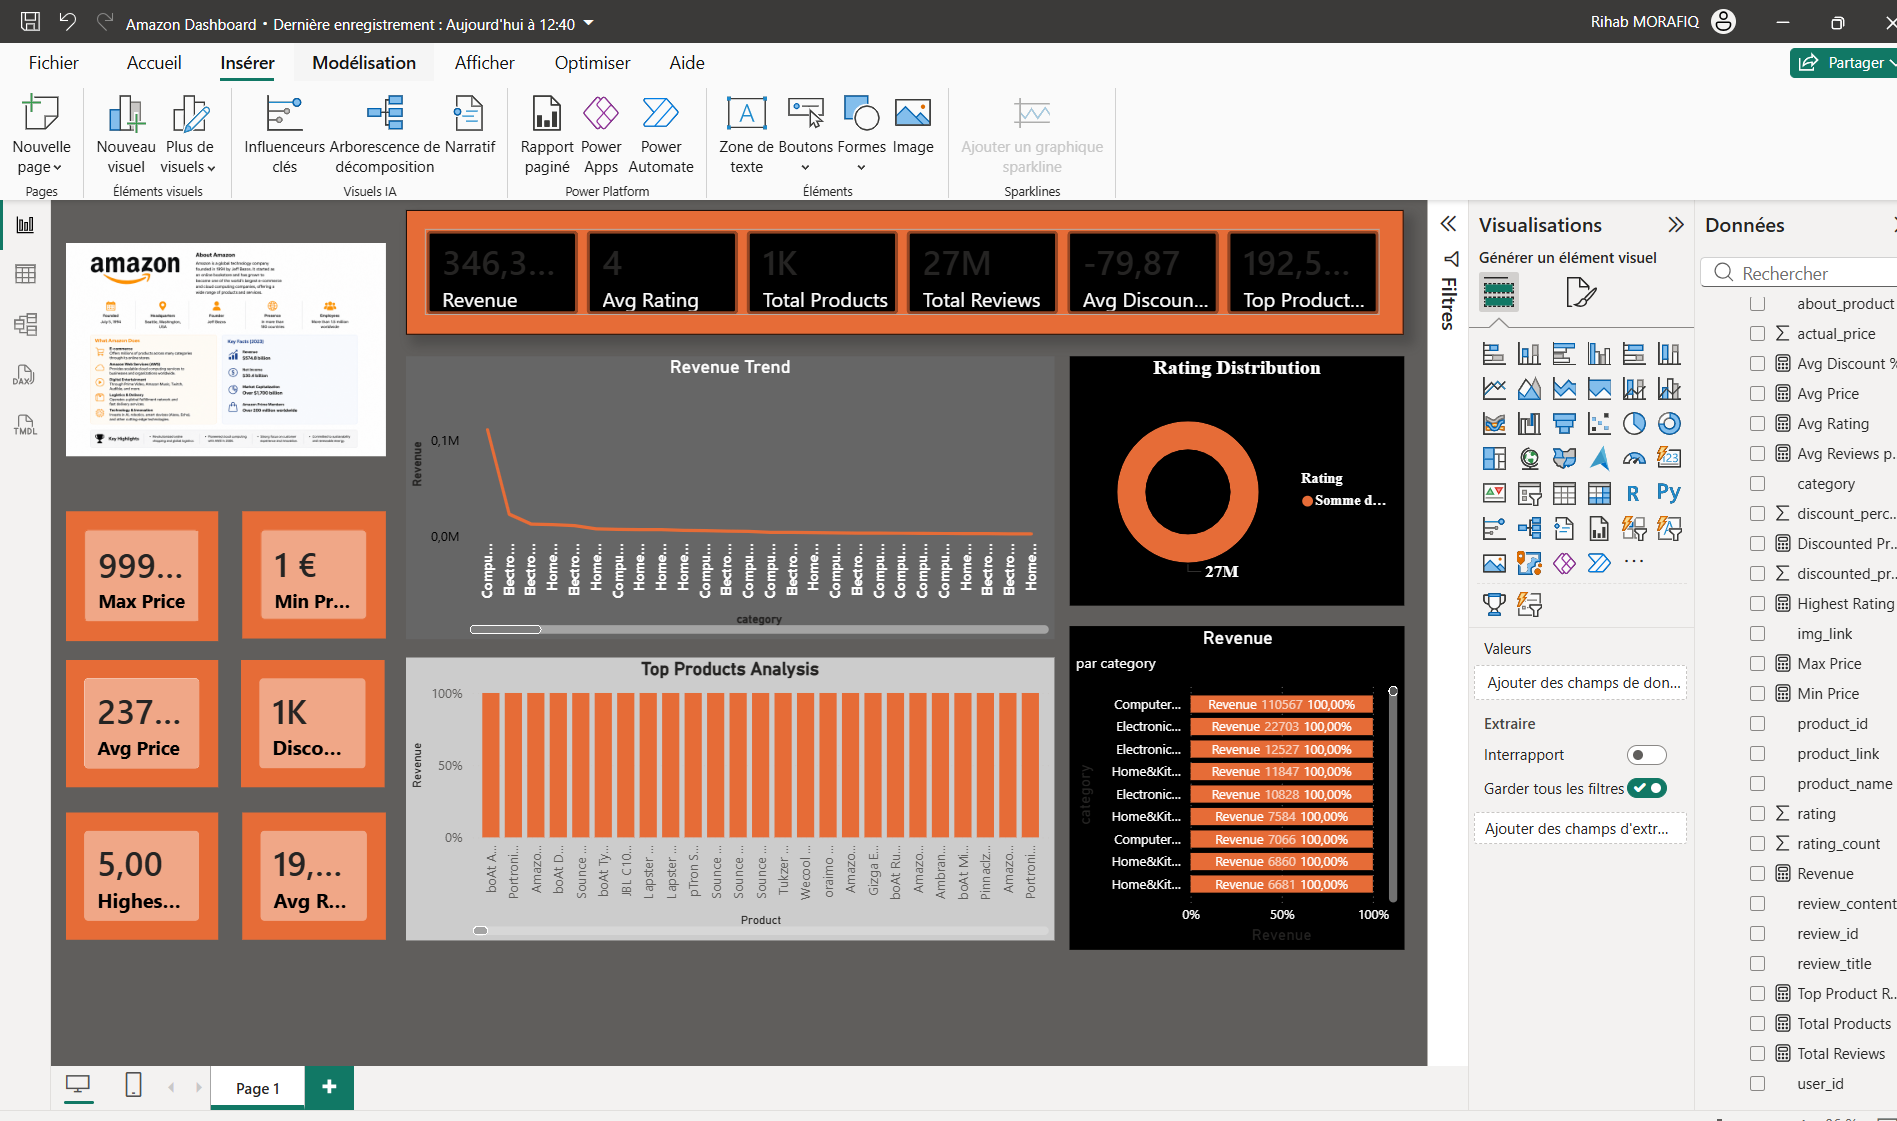

The dashboard page shown, as its layout file describes it:
{"tool":"powerbi","page":{"name":"Page 1","canvas":[1280,720],"ordinal":0},"visuals":[{"type":"cardVisual","fields":{"Data":["amazon.Revenue","amazon.Avg Rating","amazon.Total Products","amazon.Total Reviews","amazon.Avg Discount %","amazon.Top Product Revenue"]},"box":[330.2,9.8,928.1,116.2],"z":0},{"type":"donutChart","title":"Rating Distribution","fields":{"Y":["Sum(amazon.rating_count)"]},"box":[947.3,145.5,311.3,232],"z":1000},{"type":"hundredPercentStackedBarChart","fields":{"Category":["amazon.category"],"Y":["amazon.Revenue"]},"box":[947.3,396.7,311.3,300.5],"z":2000},{"type":"lineChart","title":"Revenue Trend","fields":{"Category":["amazon.category"],"Y":["amazon.Revenue"]},"box":[330.3,145.8,603.1,263.3],"z":3000},{"type":"hundredPercentStackedColumnChart","title":"Top Products Analysis","fields":{"Y":["amazon.Revenue"],"Category":["amazon.product_name"]},"box":[330.3,425.6,603.1,263.3],"z":4000},{"type":"cardVisual","fields":{"Data":["amazon.Max Price"]},"box":[14,289.5,141.9,120.9],"z":4001},{"type":"cardVisual","fields":{"Data":["amazon.Min Price"]},"box":[177.9,289.5,133.7,118.6],"z":4002},{"type":"cardVisual","fields":{"Data":["amazon.Avg Price"]},"box":[14,427.9,141.9,118.6],"z":4003},{"type":"cardVisual","fields":{"Data":["amazon.Discounted Products"]},"box":[176.7,427.9,133.7,118.6],"z":4004},{"type":"cardVisual","fields":{"Data":["amazon.Highest Rating"]},"box":[14,569.8,141.9,118.6],"z":4005},{"type":"cardVisual","fields":{"Data":["amazon.Avg Reviews per Product"]},"box":[177.9,569.8,133.7,118.6],"z":4006},{"type":"image","box":[14,0,297.7,277.9],"z":4008}]}

Visuals, with their boxes on the page's 1280x720 design canvas (x1, y1, x2, y2). These are canvas units, not pixel positions in the 1897x1121 screenshot, which may show the page scaled, cropped or inside an application window:
cardVisual - amazon.Revenue x amazon.Avg Rating: BBox(330, 10, 1258, 126)
"Rating Distribution" donutChart: BBox(947, 146, 1259, 378)
hundredPercentStackedBarChart - amazon.category x amazon.Revenue: BBox(947, 397, 1259, 697)
"Revenue Trend" lineChart: BBox(330, 146, 933, 409)
"Top Products Analysis" hundredPercentStackedColumnChart: BBox(330, 426, 933, 689)
cardVisual - amazon.Max Price: BBox(14, 290, 156, 410)
cardVisual - amazon.Min Price: BBox(178, 290, 312, 408)
cardVisual - amazon.Avg Price: BBox(14, 428, 156, 546)
cardVisual - amazon.Discounted Products: BBox(177, 428, 310, 546)
cardVisual - amazon.Highest Rating: BBox(14, 570, 156, 688)
cardVisual - amazon.Avg Reviews per Product: BBox(178, 570, 312, 688)
image: BBox(14, 0, 312, 278)
